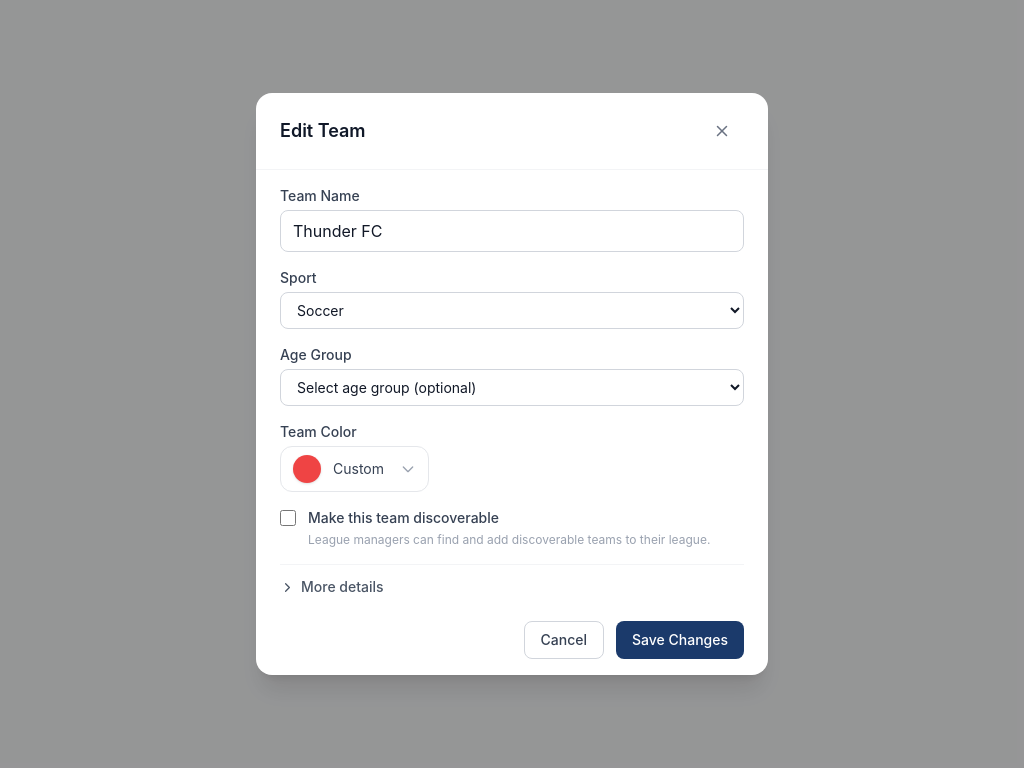
TeamForm — CF error shows error banner › shows error banner when updateTeam rejects in edit mode
Replace the text in the field labelled "Team Name" with "Renamed Team" at coordinates (512, 231), box 280,210 -> 744,252
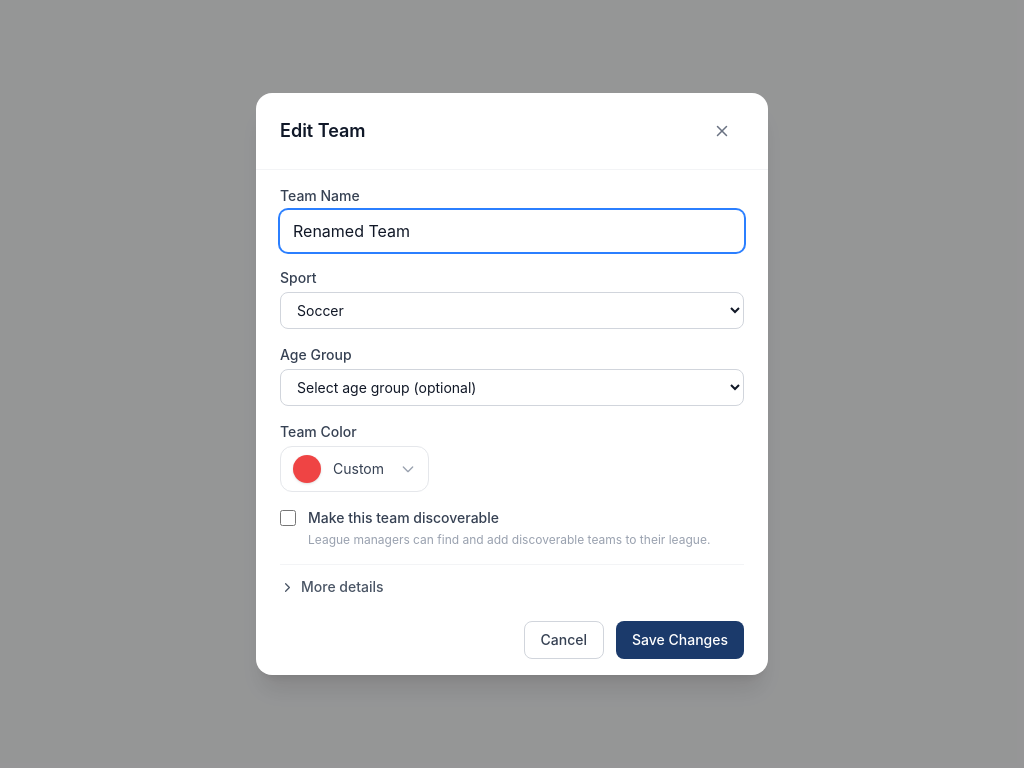
Click the button "Save Changes".
click(680, 640)  # box 616,621 -> 744,659
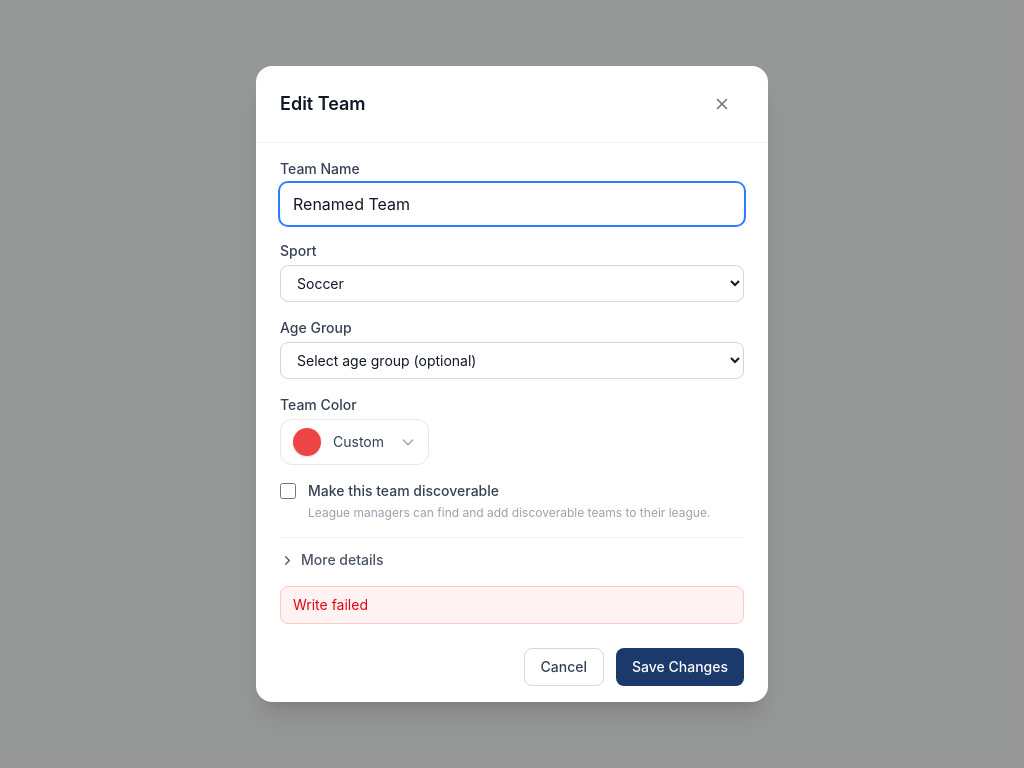
Now the text "Write failed" is shown, box 280,586 -> 744,624
